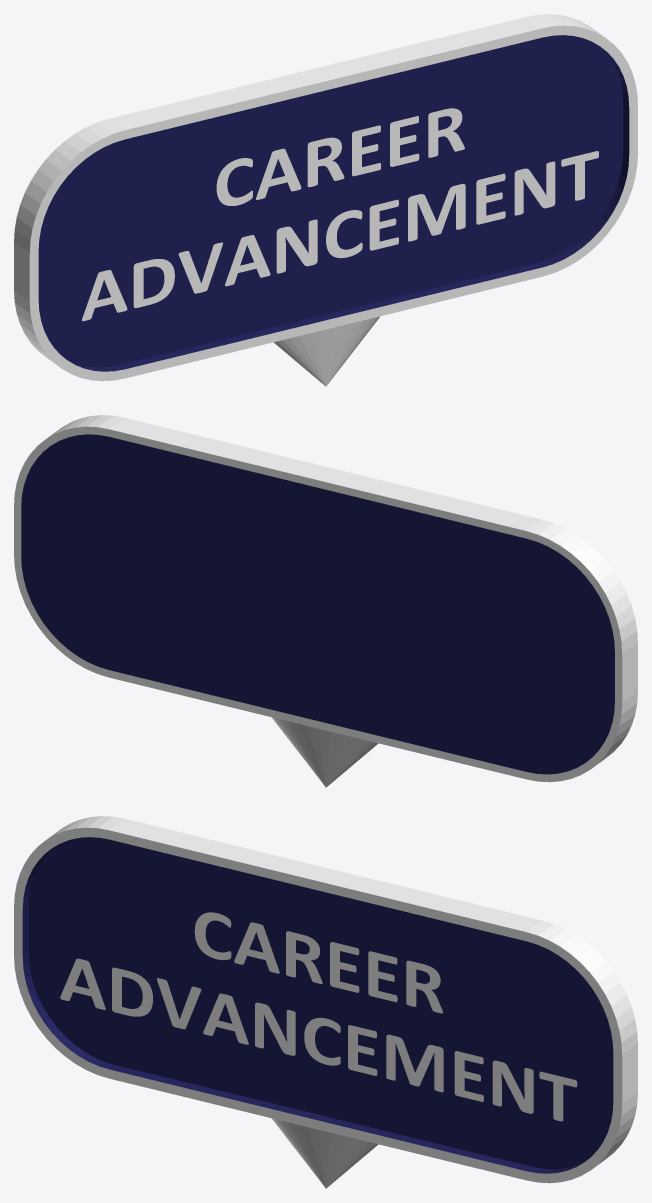
The model's file is CareerAdvancementHoverd.glb.
3 renders of one model, top to bottom at view 1: azimuth 30°, elevation 25°; view 2: azimuth 150°, elevation 25°; view 3: azimuth 330°, elevation 25°, orthographic.
Visible parts, largest first — view 1: 立方体, 文本, 立方体.001, 立方体.002, 立方体.004; view 2: 立方体, 立方体.003, 立方体.002, 立方体.004; view 3: 立方体, 文本, 立方体.001, 立方体.002, 立方体.004.
Boxes of the visible parts, x1=… form: 立方体: x1=38, y1=35, x2=629, y2=371; 文本: x1=82, y1=108, x2=598, y2=321; 立方体.001: x1=29, y1=25, x2=637, y2=381; 立方体.002: x1=14, y1=14, x2=603, y2=366; 立方体.004: x1=273, y1=316, x2=380, y2=386; 立方体: x1=21, y1=434, x2=614, y2=774; 立方体.003: x1=14, y1=426, x2=622, y2=782; 立方体.002: x1=48, y1=415, x2=637, y2=767; 立方体.004: x1=271, y1=717, x2=378, y2=787; 立方体: x1=22, y1=837, x2=613, y2=1173; 文本: x1=60, y1=912, x2=577, y2=1121; 立方体.001: x1=14, y1=827, x2=622, y2=1183; 立方体.002: x1=48, y1=816, x2=637, y2=1168; 立方体.004: x1=271, y1=1118, x2=378, y2=1188.
Size of the model in its own units: 5.13 by 2.52 by 0.2745.
